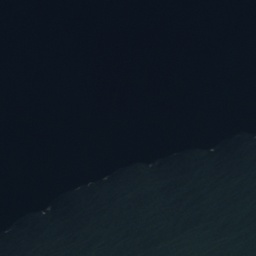Marine Debris: (41, 207, 51, 215), (101, 176, 109, 182), (210, 148, 215, 152)
